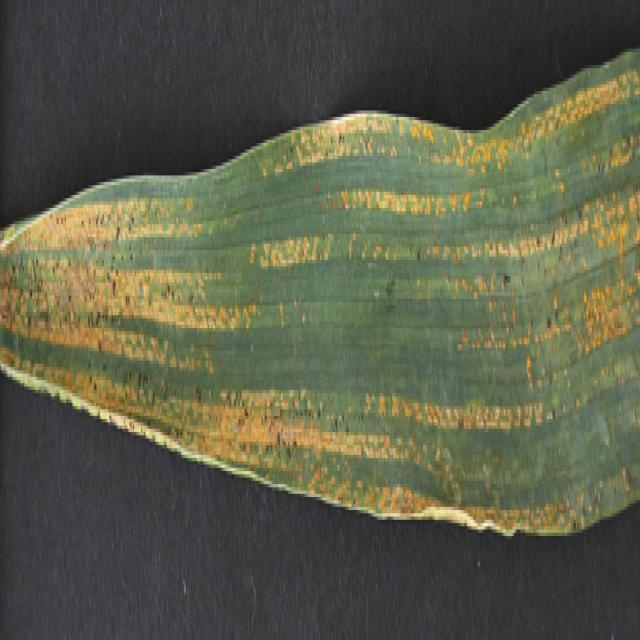leaf rust: (1, 32, 638, 507)
